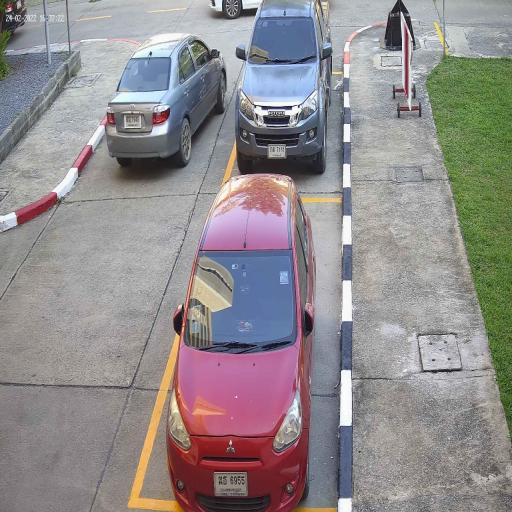car: (166, 173, 315, 511), (235, 0, 331, 172), (106, 32, 227, 164)
